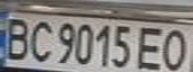0: (72, 20, 96, 68)
1: (90, 20, 115, 69)
5: (109, 21, 139, 70)
9: (51, 18, 78, 65)
B: (0, 15, 33, 61)
C: (24, 17, 57, 63)
E: (133, 24, 169, 72)
O: (157, 26, 193, 72)
